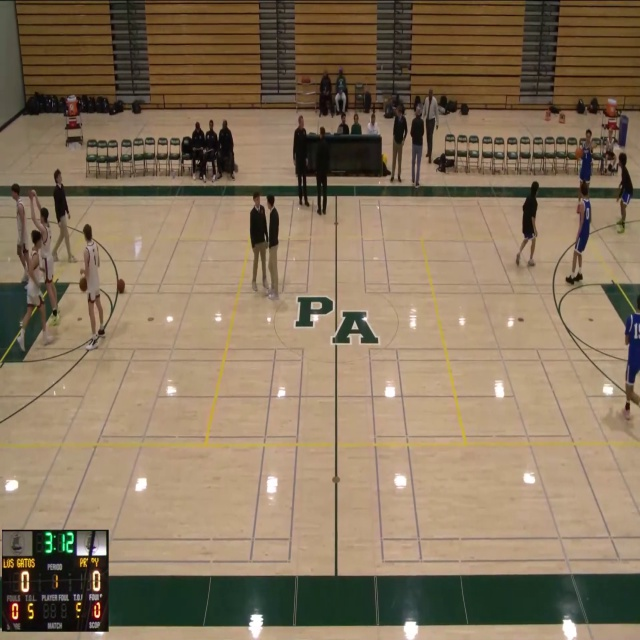Basketball: (79, 277, 87, 292), (117, 279, 125, 293), (575, 147, 583, 159)
